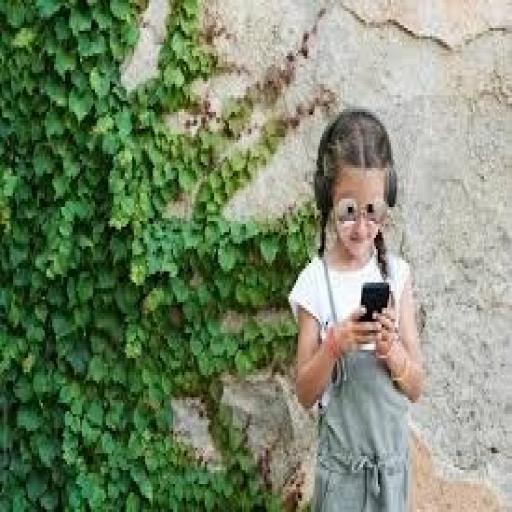texting: (285, 104, 428, 509)
